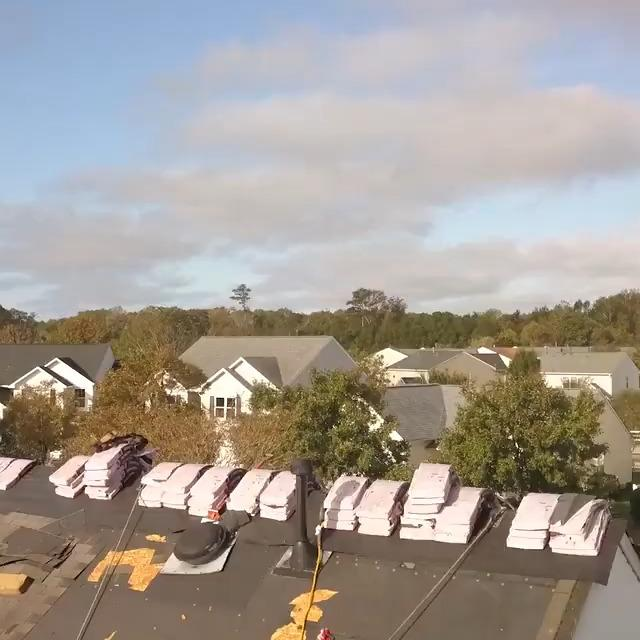Gloves: (316, 628, 334, 640)
Person: (305, 628, 355, 640)
